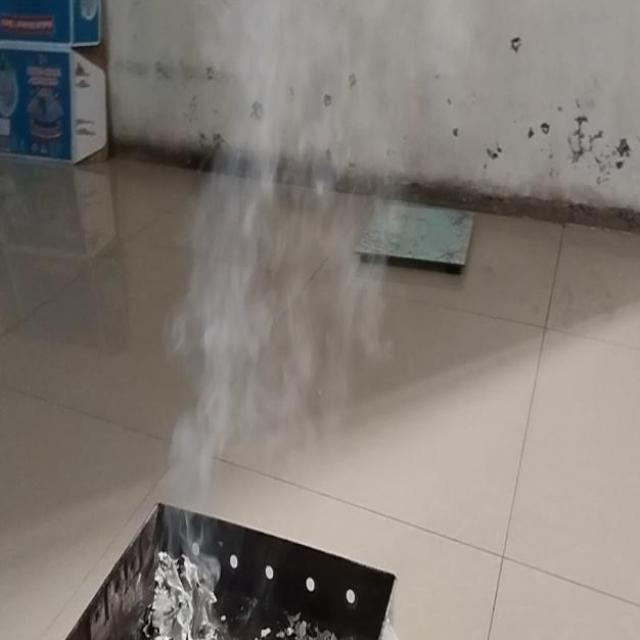fire: (190, 0, 379, 459)
